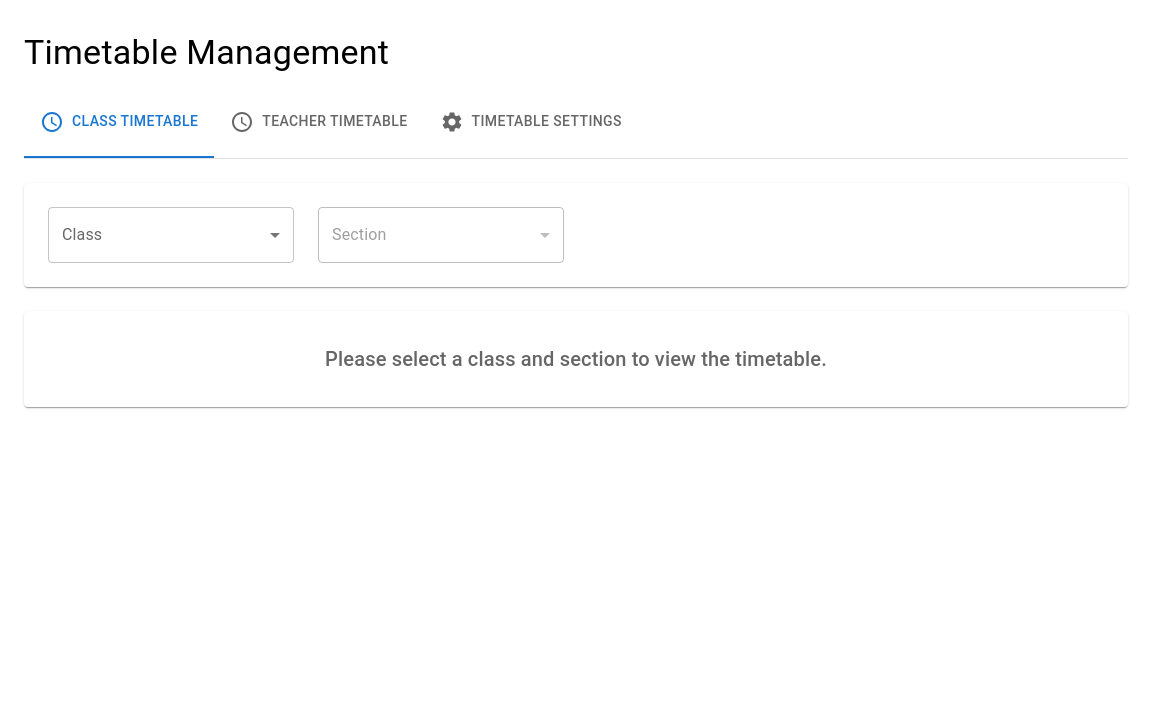
Test: TimeTable Component - Enhanced AI Testing Suite › Functional Testing › should navigate between tabs correctly
Click the tab "Teacher Timetable". click: {"x": 319, "y": 122}
box: [214,86,424,158]
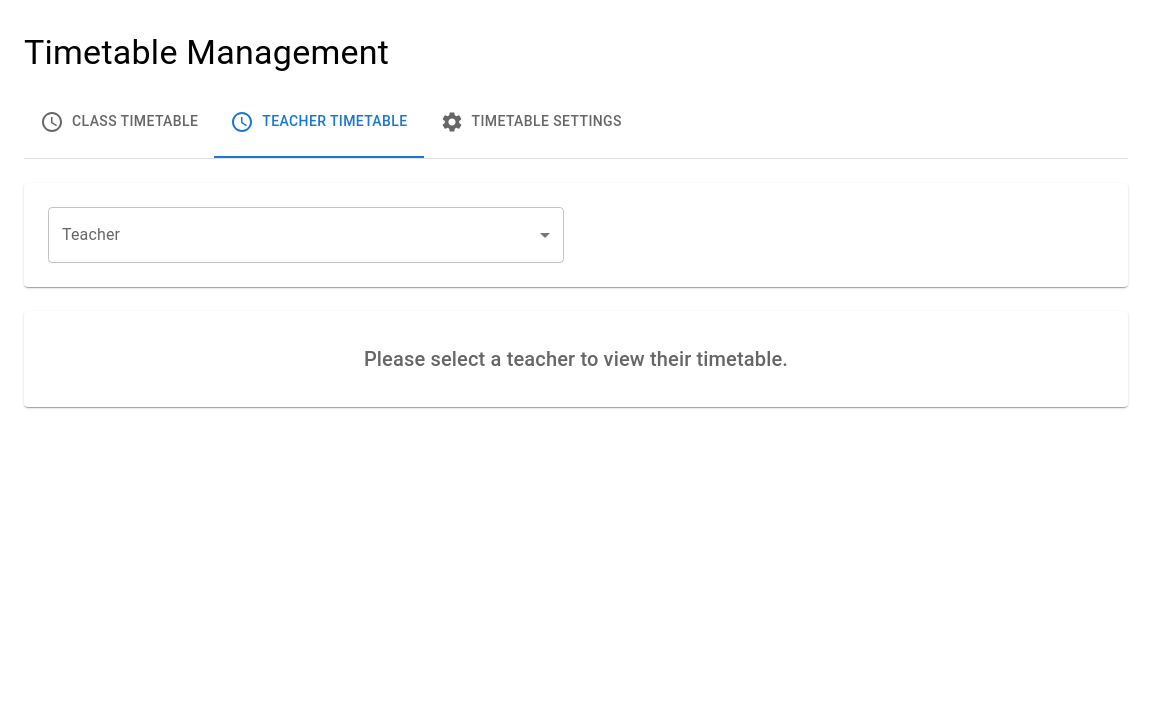
Expected: the text "Teacher" is shown, [62,223,120,246]
Click the tab "Timetable Settings". click: {"x": 531, "y": 122}
box: [424,86,638,158]
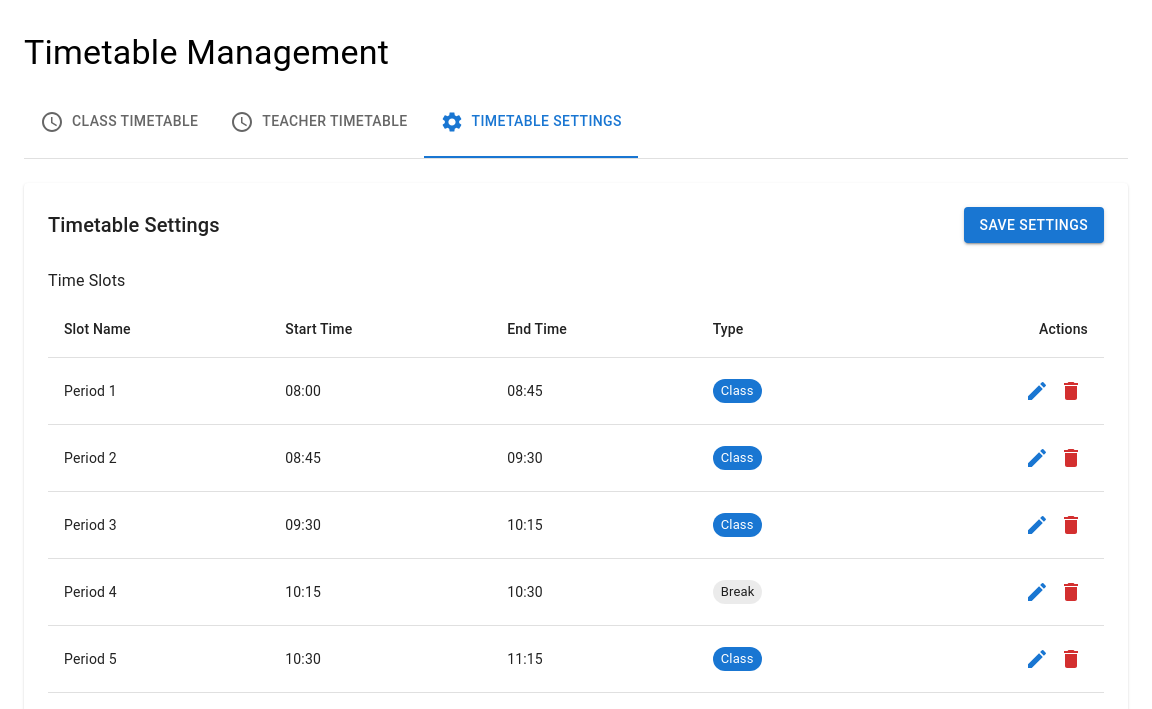
Expected: the heading "Time Slots" is shown, [48,271,125,290]
